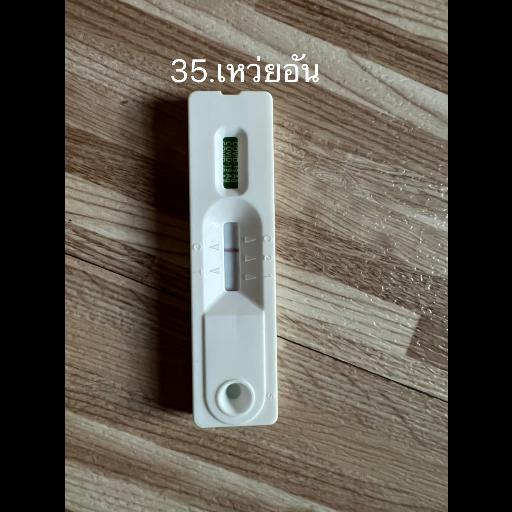Neg: (187, 87, 277, 425)
